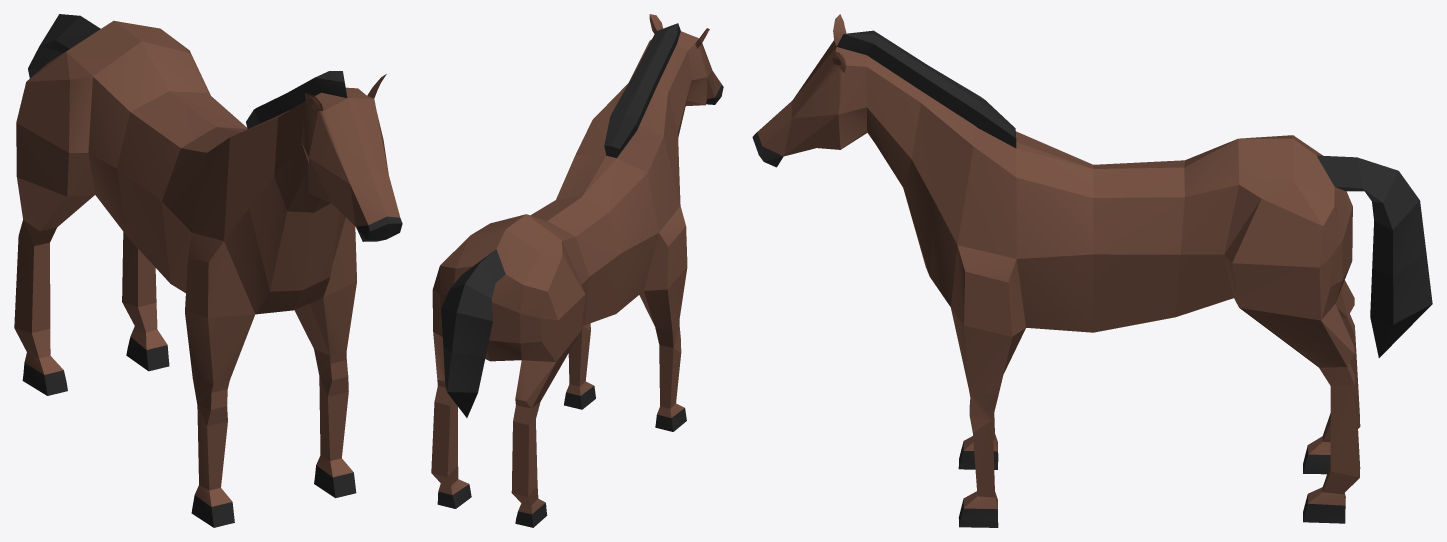
The model's file is bete-horse.glb.
The picture shows the model from 3 angles, left to right: view 1: azimuth 30°, elevation 25°; view 2: azimuth 150°, elevation 25°; view 3: azimuth 270°, elevation 25°; orthographic projection. The views are drawn at different scales.
Parts seen in each view (by area): view 1: Cylinder, Cylinder_1; view 2: Cylinder, Cylinder_1; view 3: Cylinder, Cylinder_1.
Boxes of the visible parts, <box> form: Cylinder: <box>14,20,400,506</box>; Cylinder_1: <box>22,14,402,527</box>; Cylinder: <box>431,14,721,514</box>; Cylinder_1: <box>437,23,723,527</box>; Cylinder: <box>757,14,1360,509</box>; Cylinder_1: <box>752,30,1432,527</box>.
Bounding box in the file's own units: 0.6308 × 1.7 × 2.27.
